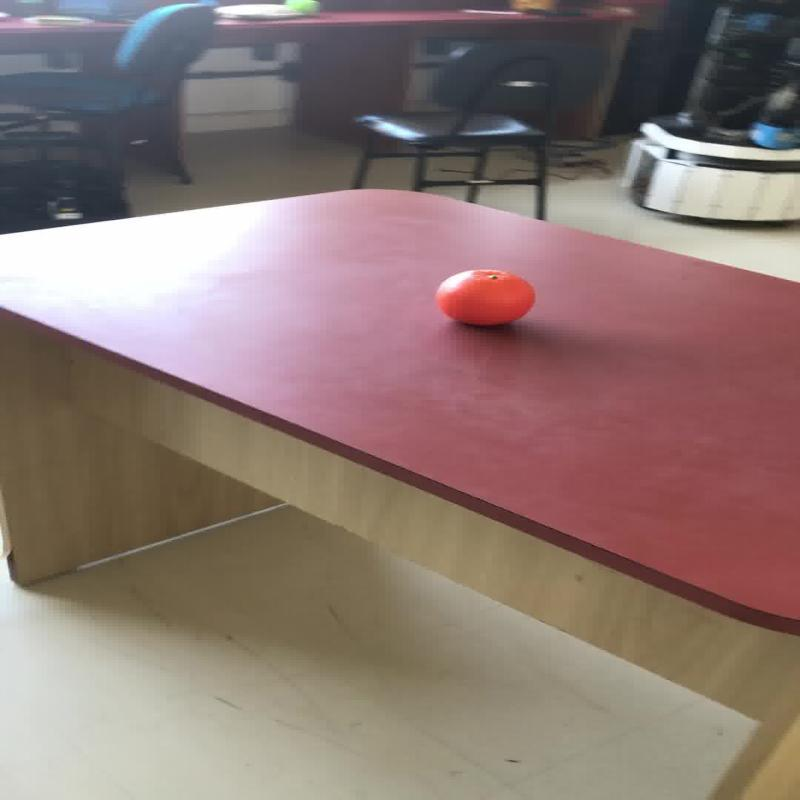orange: (434, 268, 535, 326)
